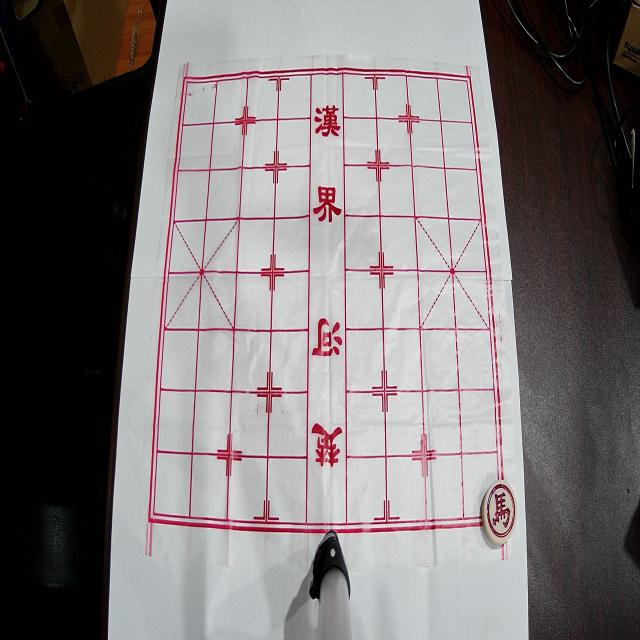red-horse: (482, 480, 517, 546)
